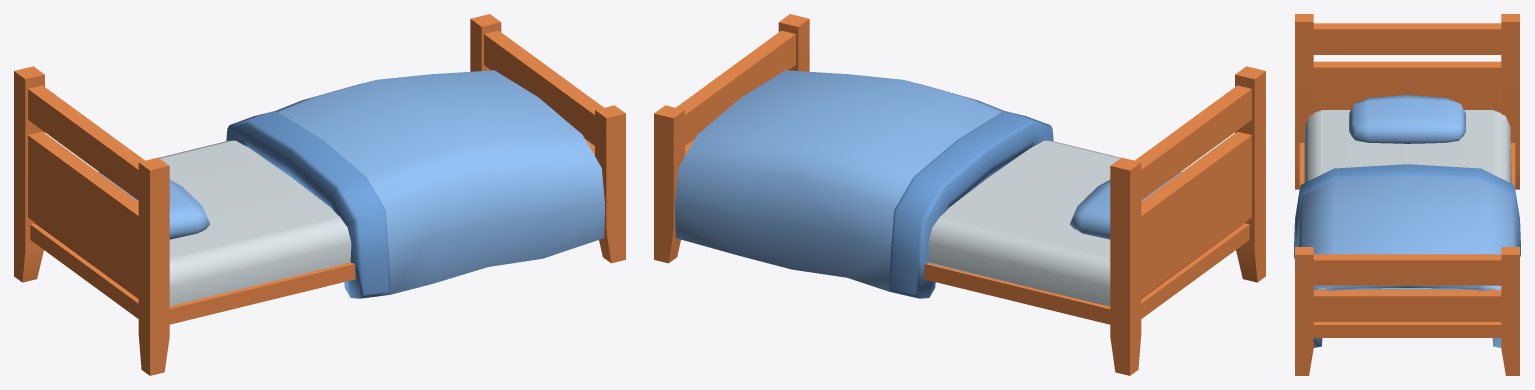
File: Kid bed.fbx
The picture shows the model from 3 angles, left to right: view 1: azimuth 30°, elevation 25°; view 2: azimuth 150°, elevation 25°; view 3: azimuth 270°, elevation 25°; orthographic projection. The views are drawn at different scales.
Parts seen in each view (by area): view 1: wooden_simple_bed_wooden_simple_bed_mat_0; view 2: wooden_simple_bed_wooden_simple_bed_mat_0; view 3: wooden_simple_bed_wooden_simple_bed_mat_0.
Part boxes in pixels (box(x1,y1,x2,y2)): wooden_simple_bed_wooden_simple_bed_mat_0: box(14, 14, 625, 375); wooden_simple_bed_wooden_simple_bed_mat_0: box(654, 14, 1265, 375); wooden_simple_bed_wooden_simple_bed_mat_0: box(1294, 14, 1520, 375).
Size of the model in its own units: 394 by 162 by 197.
Materials: 1 (1 with a texture image).
